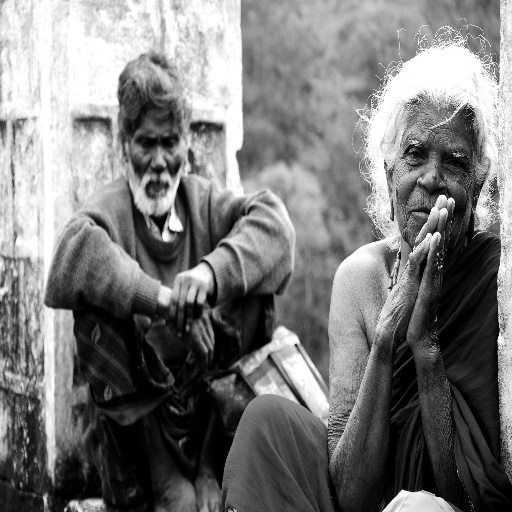hand: (376, 192, 448, 356), (166, 262, 213, 341), (186, 305, 216, 366)
